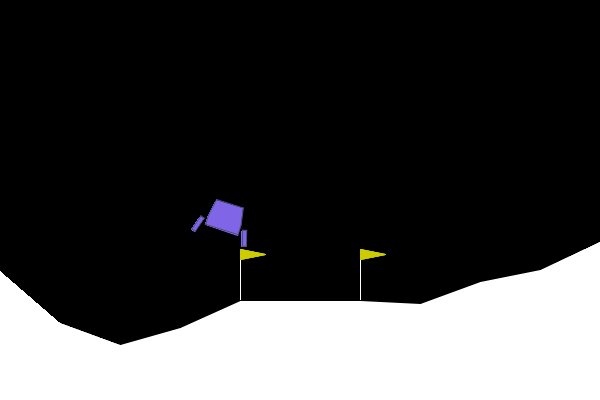lander: (189, 193, 259, 249)
